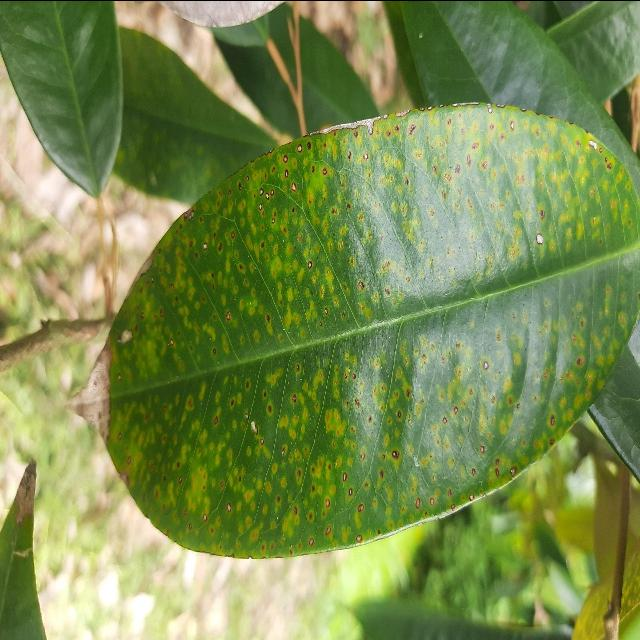Leaf Spot: (65, 94, 640, 565)
